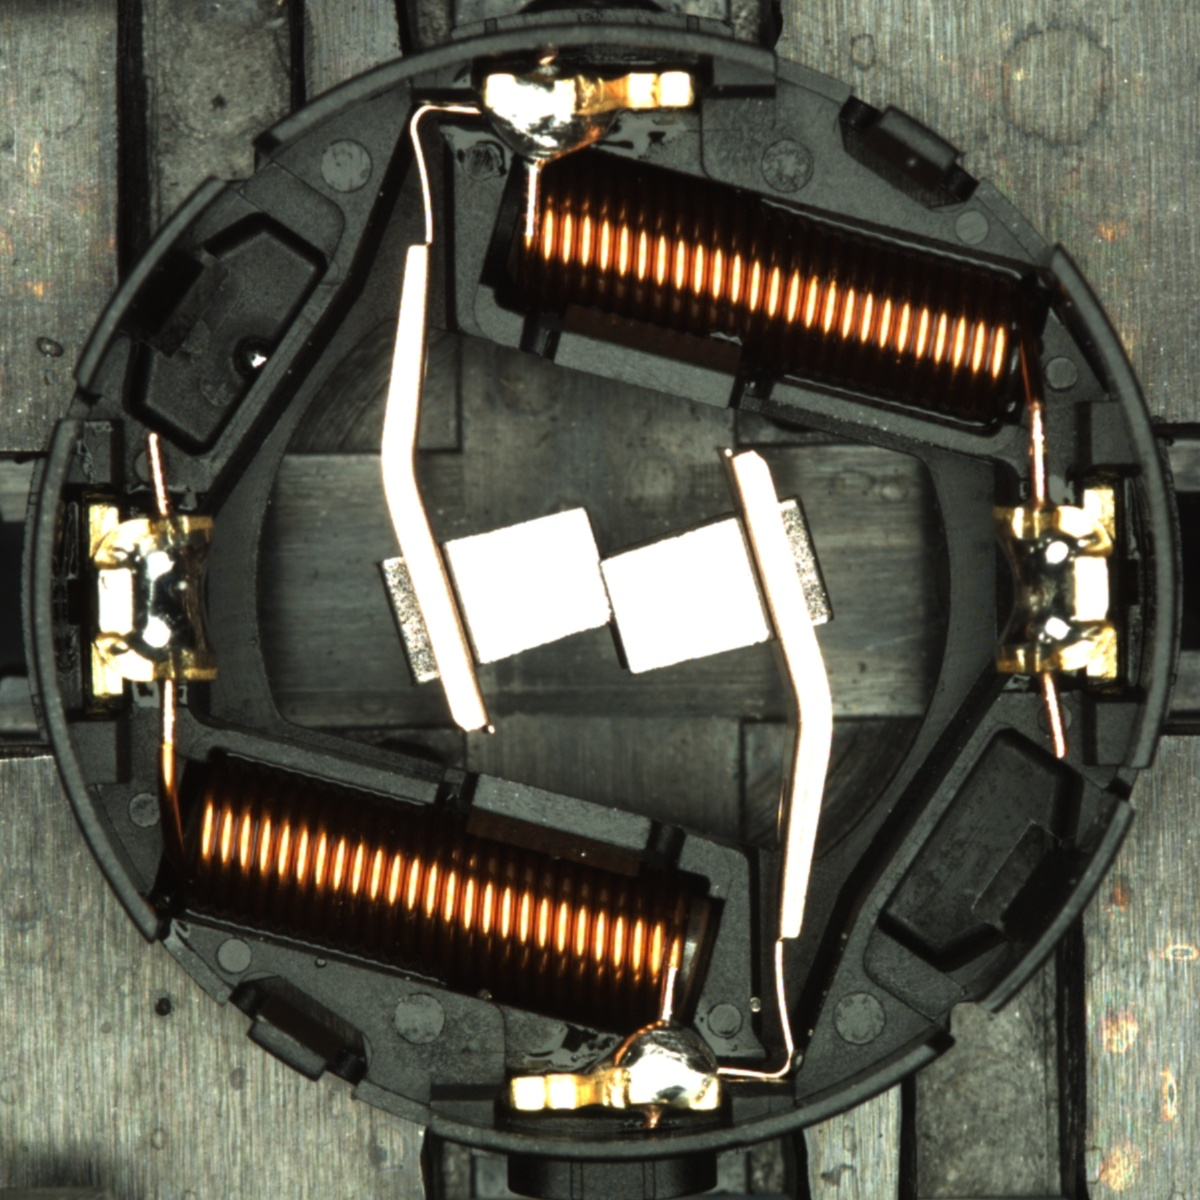1: (256, 29, 485, 254), (714, 927, 943, 1151)
2: (714, 29, 943, 254), (256, 927, 485, 1151)
3: (26, 254, 256, 478), (943, 703, 1173, 927)
4: (256, 254, 485, 478), (714, 703, 943, 927)
5: (485, 142, 714, 366), (485, 815, 714, 1039)
6: (714, 254, 943, 478), (256, 703, 485, 927)
7: (943, 254, 1173, 478), (26, 703, 256, 927)
cacbon: (395, 496, 804, 685)
chau_dien: (81, 498, 221, 699), (986, 487, 1125, 686)
hat_chi: (232, 335, 275, 382)
tay_choi: (481, 68, 699, 168), (510, 1018, 723, 1115)
thanh_de: (955, 786, 1142, 1030), (59, 164, 246, 405)
